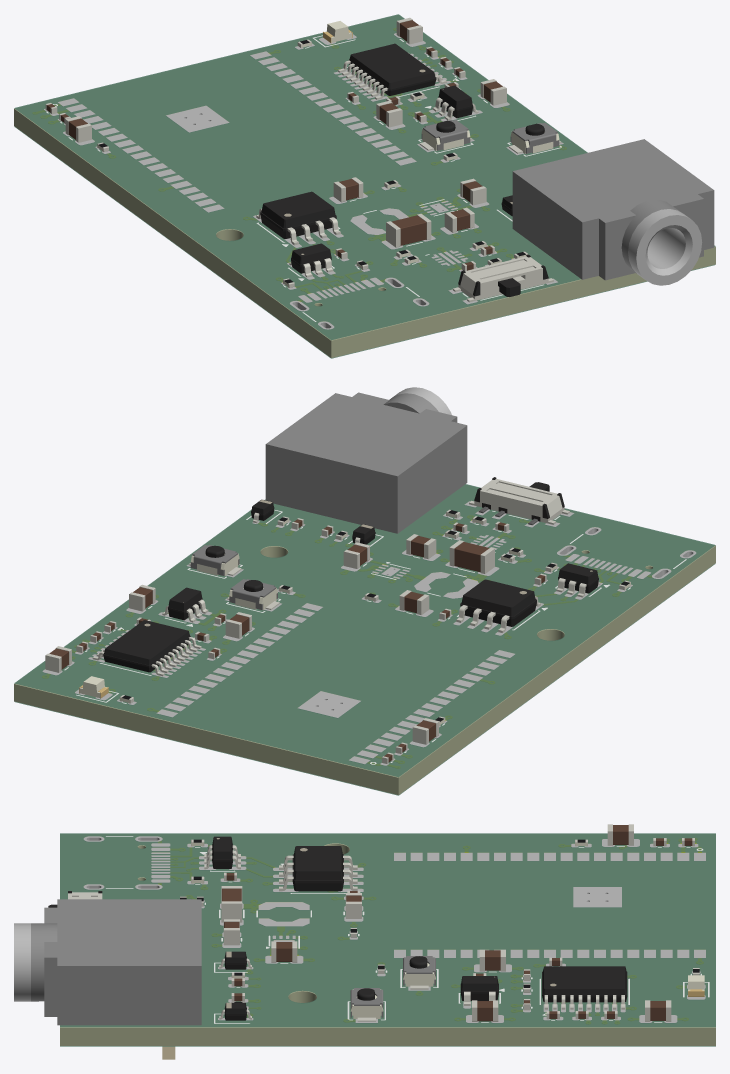
Rendered from lovelace-as-002.glb.
3 renders of one model, top to bottom at view 1: azimuth 30°, elevation 25°; view 2: azimuth 150°, elevation 25°; view 3: azimuth 270°, elevation 25°, orthographic. The views are drawn at different scales.
Visible parts, largest first — view 1: =>[0:1:1:35], =>[0:1:1:33], =>[0:1:1:19], =>[0:1:1:29], =>[0:1:1:3] (×7), =>[0:1:1:23], =>[0:1:1:17], =>[0:1:1:21], =>[0:1:1:15] (×2), =>[0:1:1:13], =>[0:1:1:28], =>[0:1:1:9] (+3 smaller); view 2: =>[0:1:1:35], =>[0:1:1:33], =>[0:1:1:19], =>[0:1:1:29], =>[0:1:1:23], =>[0:1:1:21], =>[0:1:1:17], =>[0:1:1:15] (×2), =>[0:1:1:13], =>[0:1:1:28], =>[0:1:1:9], =>[0:1:1:31] (+2 smaller); view 3: =>[0:1:1:35], =>[0:1:1:33], =>[0:1:1:19], =>[0:1:1:29], =>[0:1:1:3] (×7), =>[0:1:1:23], =>[0:1:1:17], =>[0:1:1:15] (×2), =>[0:1:1:28], =>[0:1:1:31], =>[0:1:1:27], =>[0:1:1:7] (×2) (+3 smaller).
Part boxes in pixels (bbox=[...]): =>[0:1:1:35]: bbox=[14, 15, 715, 357]; =>[0:1:1:33]: bbox=[14, 14, 715, 340]; =>[0:1:1:19]: bbox=[512, 139, 714, 285]; =>[0:1:1:29]: bbox=[44, 33, 563, 329]; =>[0:1:1:3] (×7): bbox=[65, 17, 506, 232]; =>[0:1:1:23]: bbox=[338, 43, 446, 99]; =>[0:1:1:17]: bbox=[256, 191, 340, 245]; =>[0:1:1:21]: bbox=[453, 254, 553, 302]; =>[0:1:1:15] (×2): bbox=[419, 120, 561, 153]; =>[0:1:1:13]: bbox=[386, 213, 431, 247]; =>[0:1:1:28]: bbox=[33, 28, 566, 301]; =>[0:1:1:9]: bbox=[289, 243, 333, 277]; =>[0:1:1:35]: bbox=[14, 485, 715, 794]; =>[0:1:1:33]: bbox=[14, 484, 715, 777]; =>[0:1:1:19]: bbox=[265, 387, 467, 533]; =>[0:1:1:29]: bbox=[42, 501, 696, 765]; =>[0:1:1:23]: bbox=[92, 620, 201, 676]; =>[0:1:1:21]: bbox=[469, 477, 569, 525]; =>[0:1:1:17]: bbox=[456, 579, 540, 632]; =>[0:1:1:15] (×2): bbox=[188, 545, 279, 610]; =>[0:1:1:13]: bbox=[449, 540, 494, 573]; =>[0:1:1:28]: bbox=[42, 516, 651, 768]; =>[0:1:1:9]: bbox=[556, 563, 600, 597]; =>[0:1:1:31]: bbox=[64, 509, 686, 764]; =>[0:1:1:35]: bbox=[60, 834, 715, 1045]; =>[0:1:1:33]: bbox=[60, 833, 715, 1027]; =>[0:1:1:19]: bbox=[14, 899, 201, 1059]; =>[0:1:1:29]: bbox=[83, 836, 705, 1022]; =>[0:1:1:3] (×7): bbox=[223, 824, 671, 1021]; =>[0:1:1:23]: bbox=[542, 966, 627, 1009]; =>[0:1:1:17]: bbox=[279, 846, 357, 891]; =>[0:1:1:15] (×2): bbox=[350, 956, 435, 1021]; =>[0:1:1:28]: bbox=[158, 838, 703, 1023]; =>[0:1:1:31]: bbox=[106, 836, 709, 1023]; =>[0:1:1:27]: bbox=[460, 976, 498, 1005]; =>[0:1:1:7] (×2): bbox=[219, 951, 251, 1020].
Size of the model in its own units: 0.035 by 0.0088 by 0.0535.
